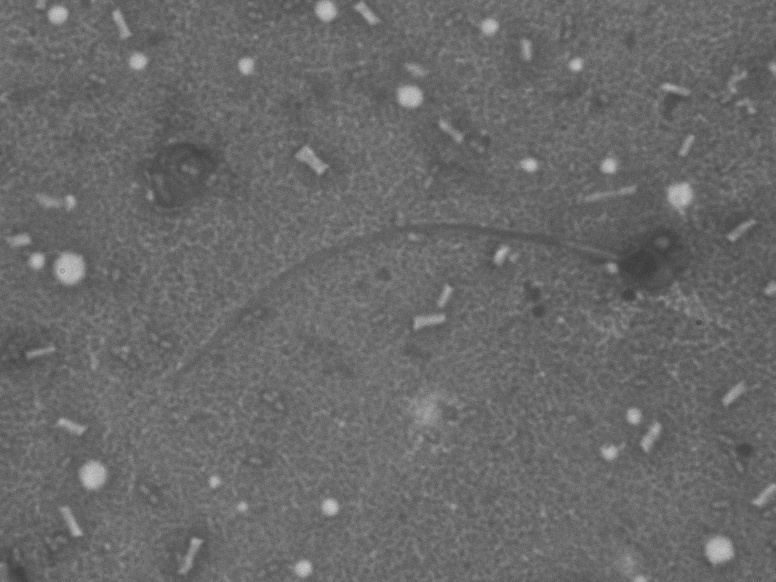Abnormal: (129, 157, 692, 389)
